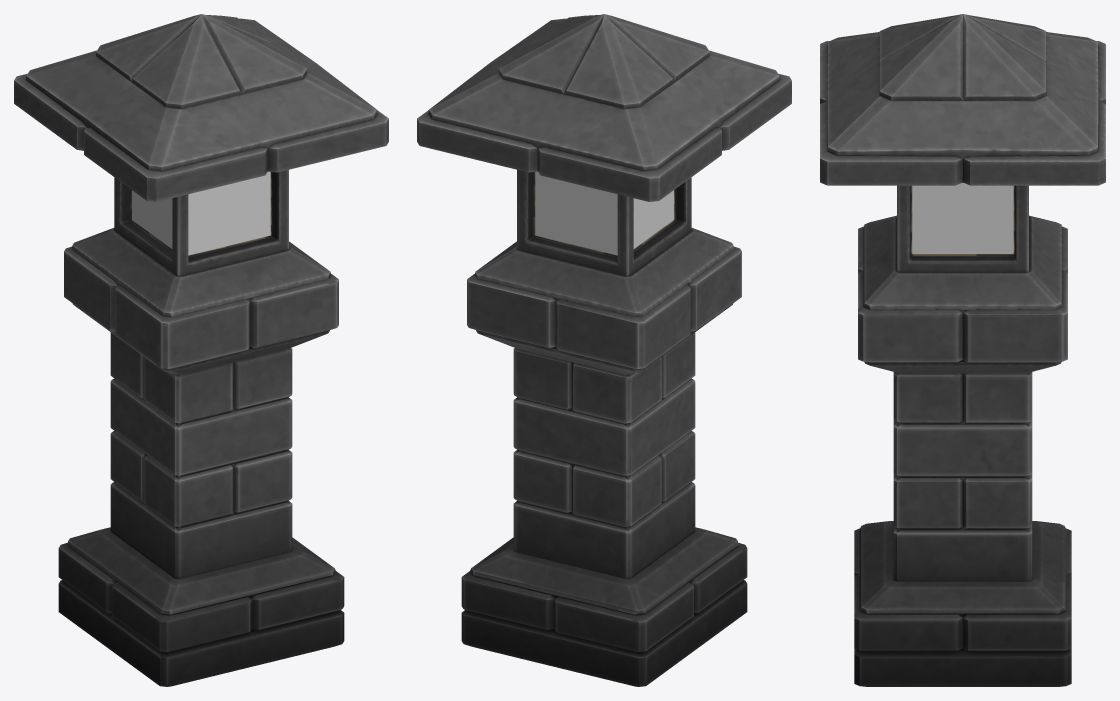
File: lampuarena5.fbx
3 views of the same model, side by side, from view 1: azimuth 30°, elevation 25°; view 2: azimuth 150°, elevation 25°; view 3: azimuth 270°, elevation 25° (orthographic). The views are drawn at different scales.
Visible parts, largest first — view 1: lampu_LOD0; view 2: lampu_LOD0; view 3: lampu_LOD0.
Boxes of the visible parts, bbox=[...] form: lampu_LOD0: bbox=[14, 14, 388, 686]; lampu_LOD0: bbox=[417, 14, 791, 686]; lampu_LOD0: bbox=[820, 14, 1105, 686].
Size of what is drawn, in the model's own units: 217 by 217 by 526.
